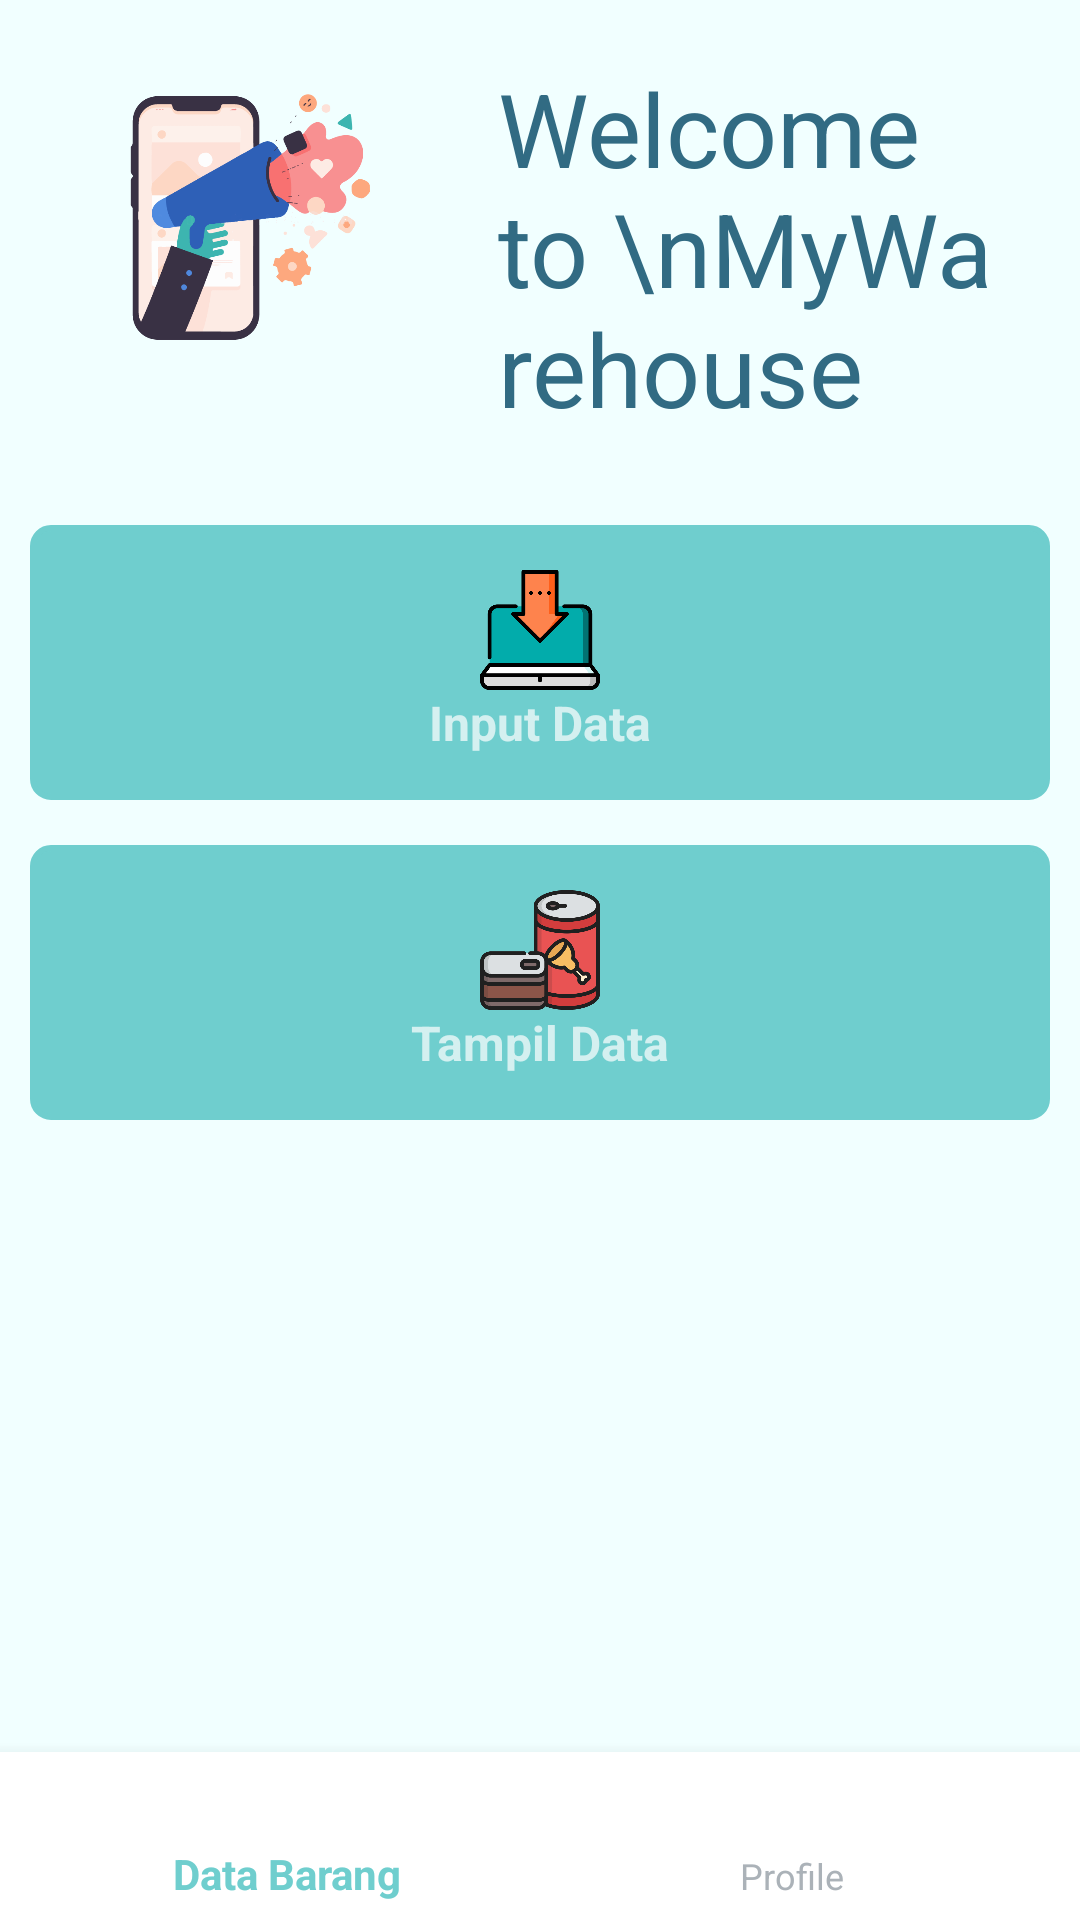

Icons on this 1080×1920 Android screen, each with its box as [x1, y1, x2, y2]:
canned food: [480, 890, 600, 1010]
